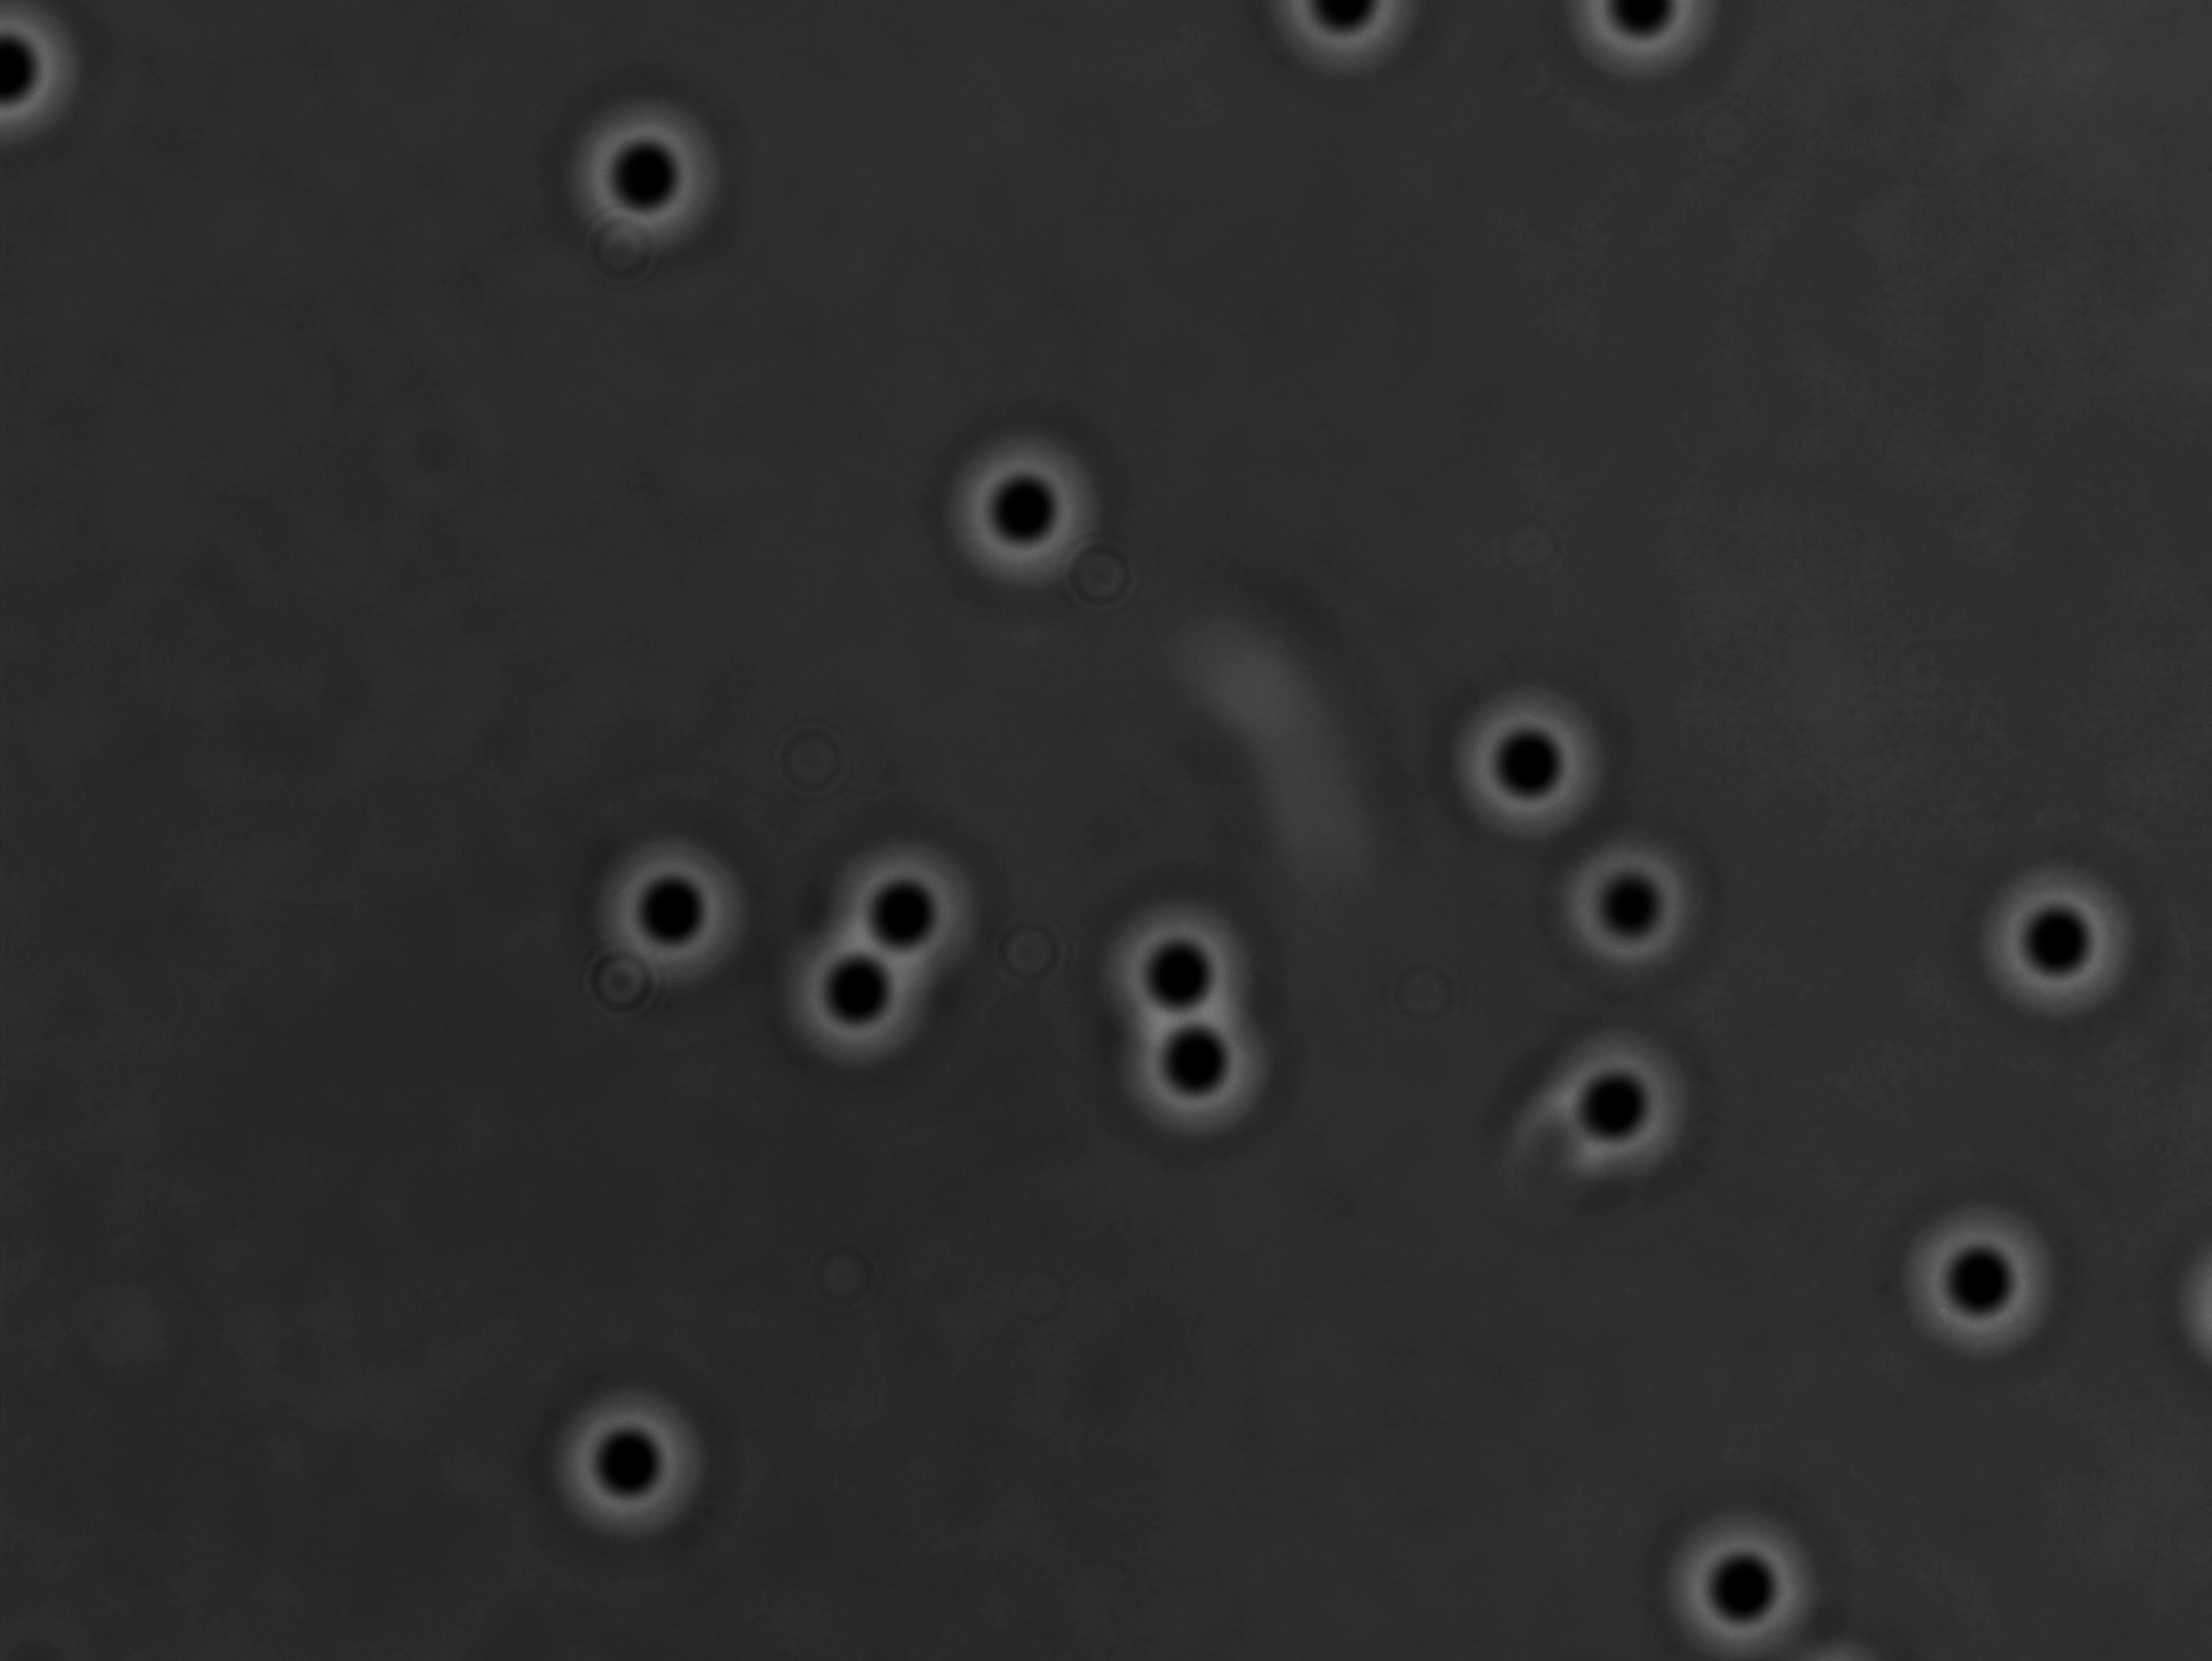depth:-80: (1949, 841, 2154, 1049), (1532, 797, 1738, 1003), (1509, 1003, 1713, 1202), (1879, 1176, 2081, 1370), (579, 808, 776, 1003), (544, 85, 736, 279), (523, 1371, 722, 1558), (932, 410, 1125, 600), (1441, 665, 1638, 850), (1085, 881, 1275, 1064), (1657, 1500, 1856, 1661), (811, 822, 993, 996), (780, 902, 956, 1078), (1122, 995, 1307, 1159)
